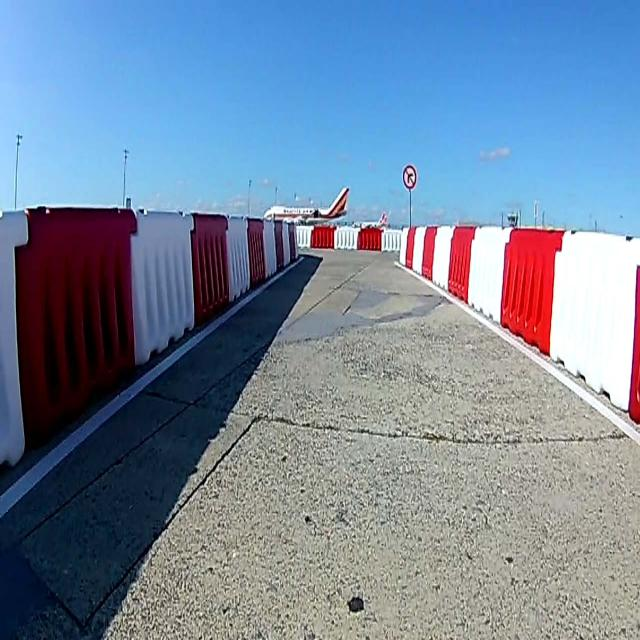sagadonulmez: (403, 166, 416, 188)
